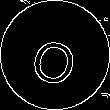O_N: (27, 24, 83, 86)
